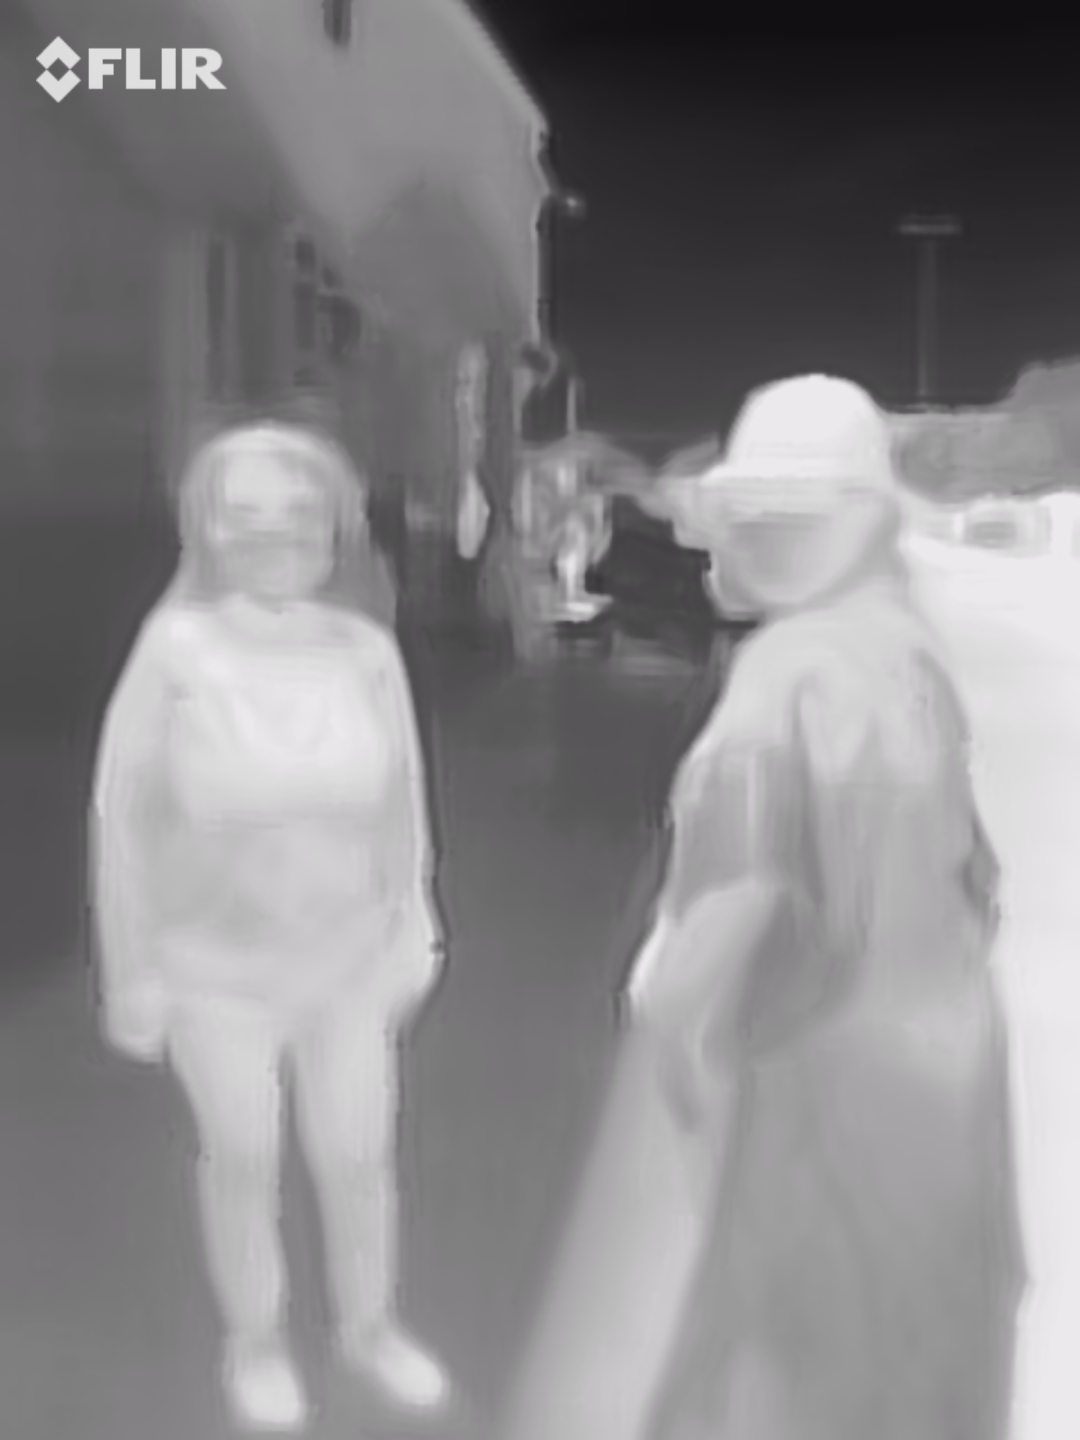head: (708, 376, 886, 606), (201, 435, 336, 598)
